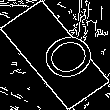O_SW: (18, 22, 92, 88)
